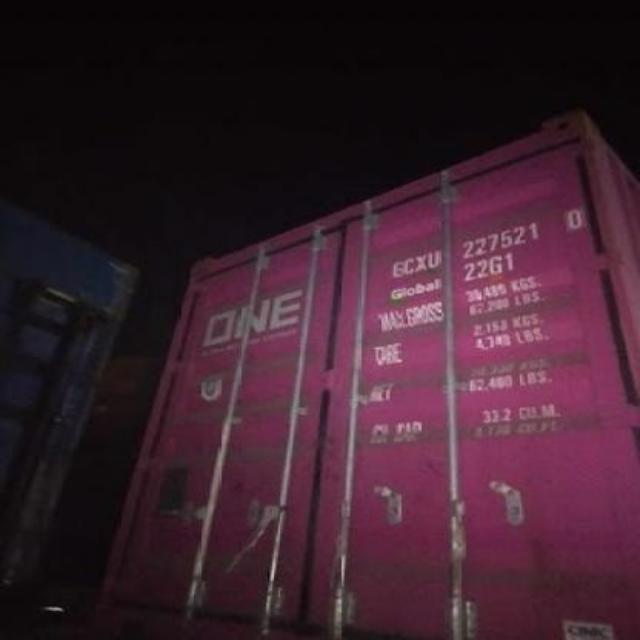0: (556, 206, 586, 230)
1: (526, 217, 540, 247)
2: (510, 224, 526, 252), (456, 235, 474, 259), (472, 232, 486, 258)
5: (498, 228, 512, 250)
7: (484, 229, 498, 255)
C: (404, 252, 414, 278)
G: (388, 256, 404, 278)
U: (426, 248, 444, 272)
X: (412, 250, 426, 274)
